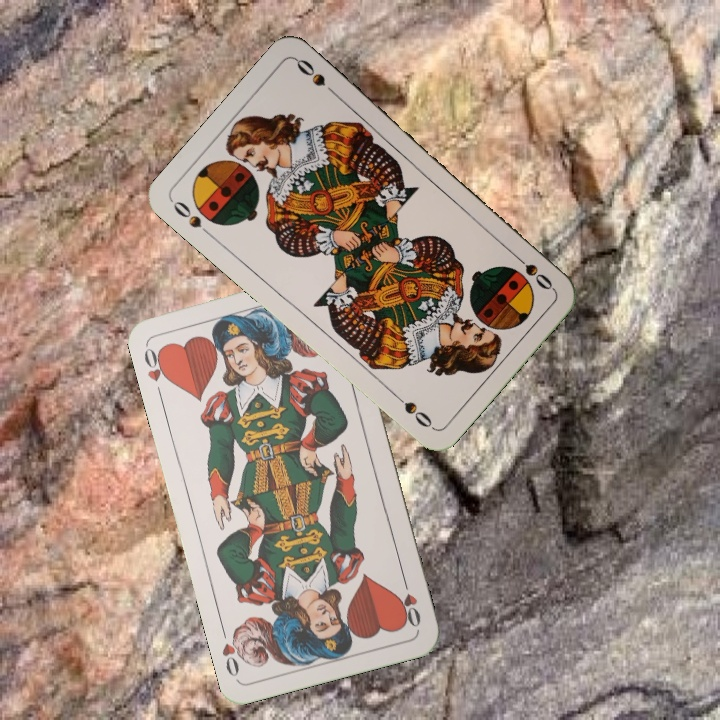HO: (140, 342, 173, 400), (395, 573, 423, 630)
SO: (507, 248, 556, 293), (169, 196, 216, 241)
